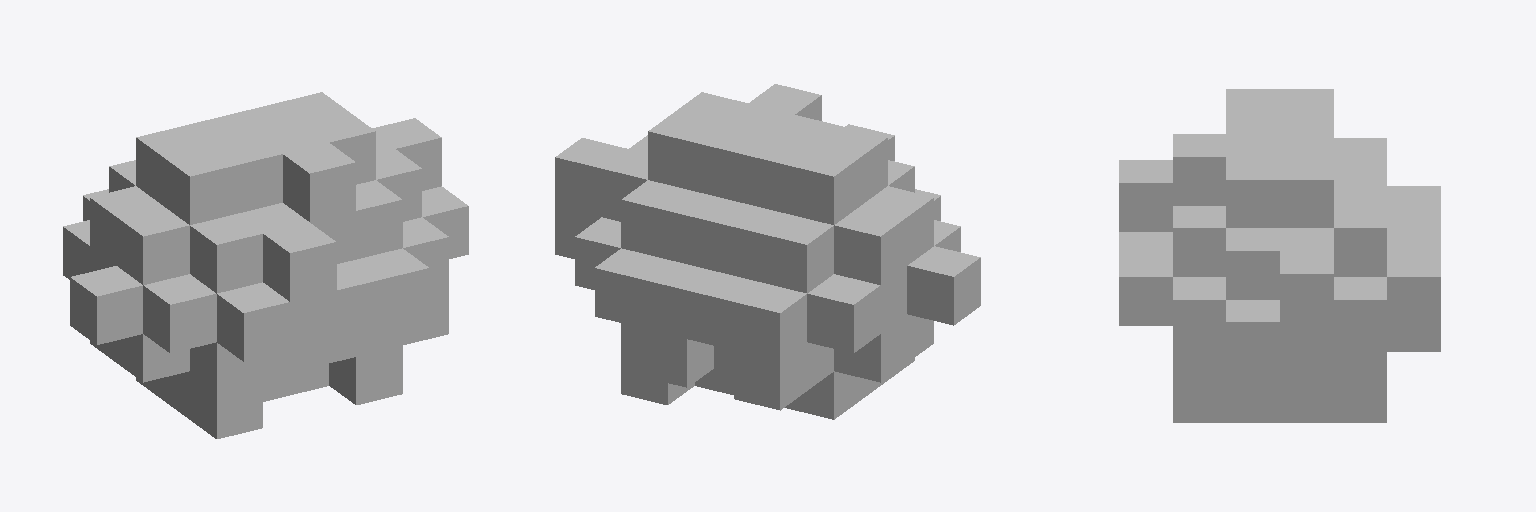
File: Rock.obj
3 views of the same model, side by side, from view 1: azimuth 30°, elevation 25°; view 2: azimuth 150°, elevation 25°; view 3: azimuth 270°, elevation 25° (orthographic).
Visible parts, largest first — view 1: Rock; view 2: Rock; view 3: Rock.
Part boxes in pixels (left/top/right/bottom): Rock: left=63, top=92, right=468, bottom=438; Rock: left=555, top=84, right=980, bottom=419; Rock: left=1119, top=89, right=1440, bottom=422.
Size of the model in its own units: 8 by 5 by 6.